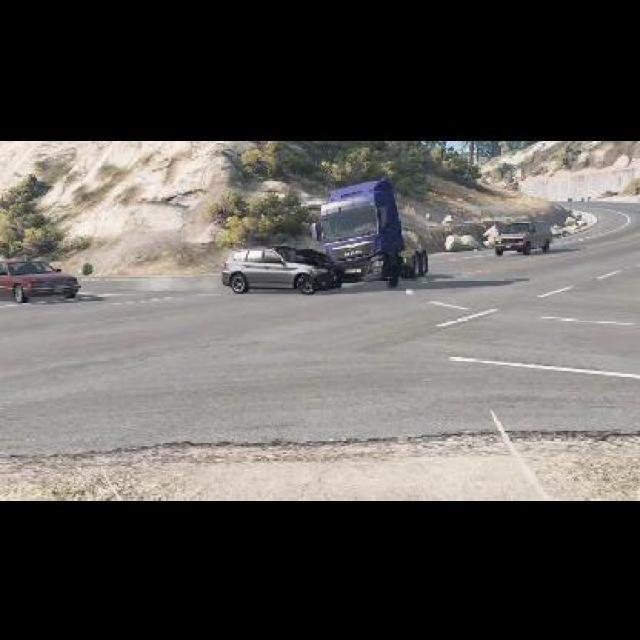accident: (217, 170, 429, 292)
